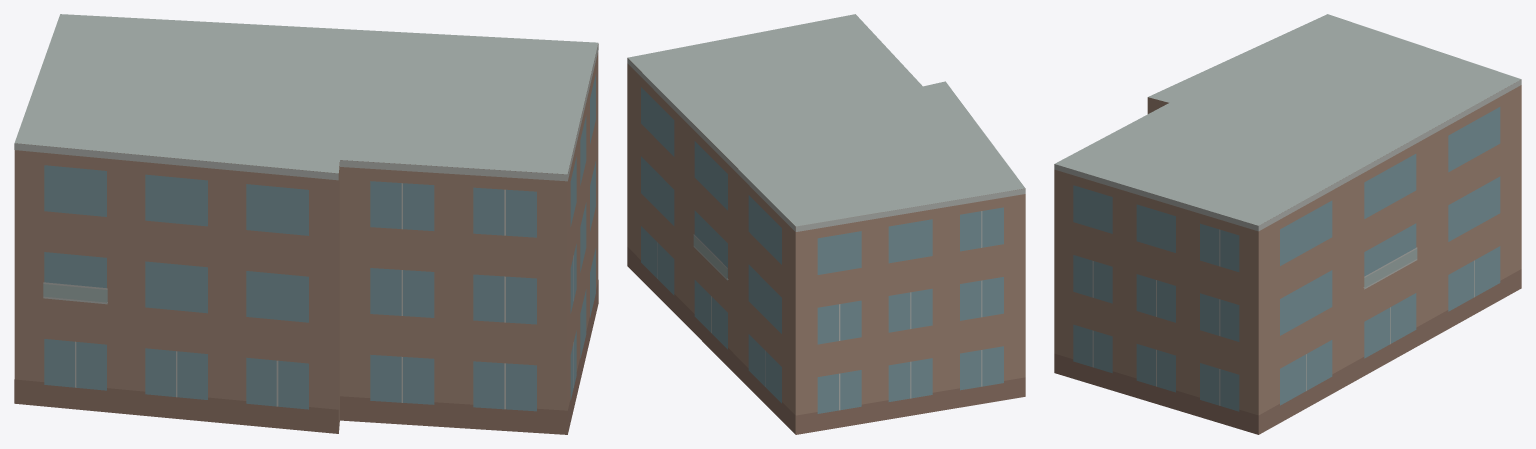
The model's file is survey-upis-32585116.glb.
3 renders of one model, left to right at view 1: azimuth 30°, elevation 25°; view 2: azimuth 150°, elevation 25°; view 3: azimuth 270°, elevation 25°, orthographic. The views are drawn at different scales.
Visible parts, largest first — view 1: survey-upis-32585116.tmp; view 2: survey-upis-32585116.tmp; view 3: survey-upis-32585116.tmp.
Boxes of the visible parts, x1,y1,x2,y2 form: survey-upis-32585116.tmp: (14,14,598,434); survey-upis-32585116.tmp: (627,14,1025,434); survey-upis-32585116.tmp: (1054,14,1521,434).
Size of the model in its own units: 19.89 by 9.15 by 18.54.
